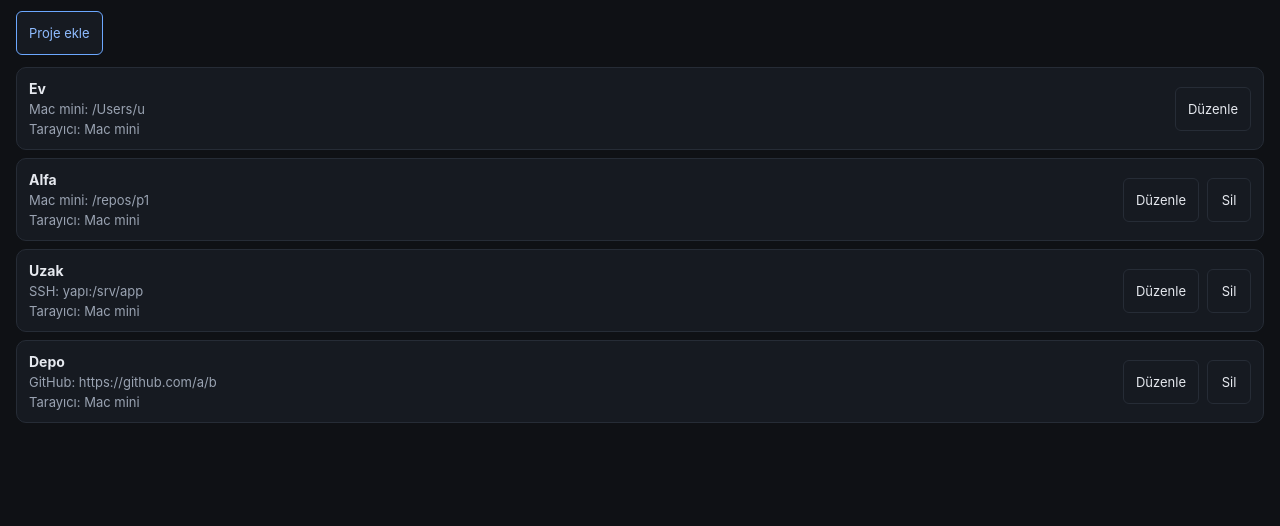
Test: Projeler: konum düzenleme › validates like create: a relative folder is refused before anything is sent
Click the button with aria-label "Düzenle: Alfa" at (1161, 200), box top-left (1123, 178), bottom-right (1199, 222)
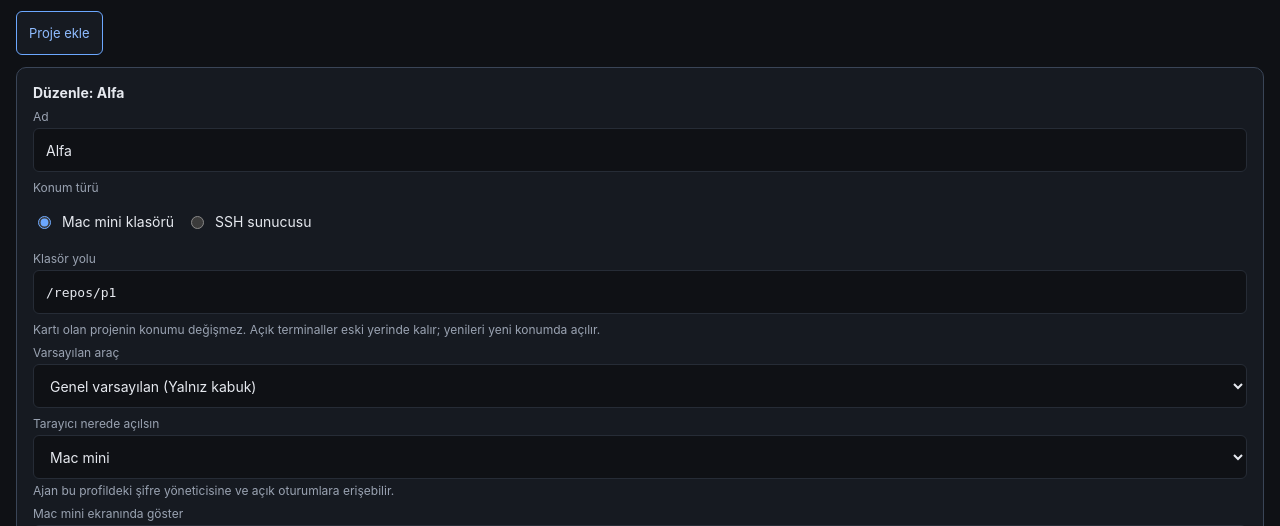
Replace the text in the field labelled "Klasör yolu" with "göreli/yol" at (640, 292), box top-left (33, 270), bottom-right (1247, 314)
(page scrolled)
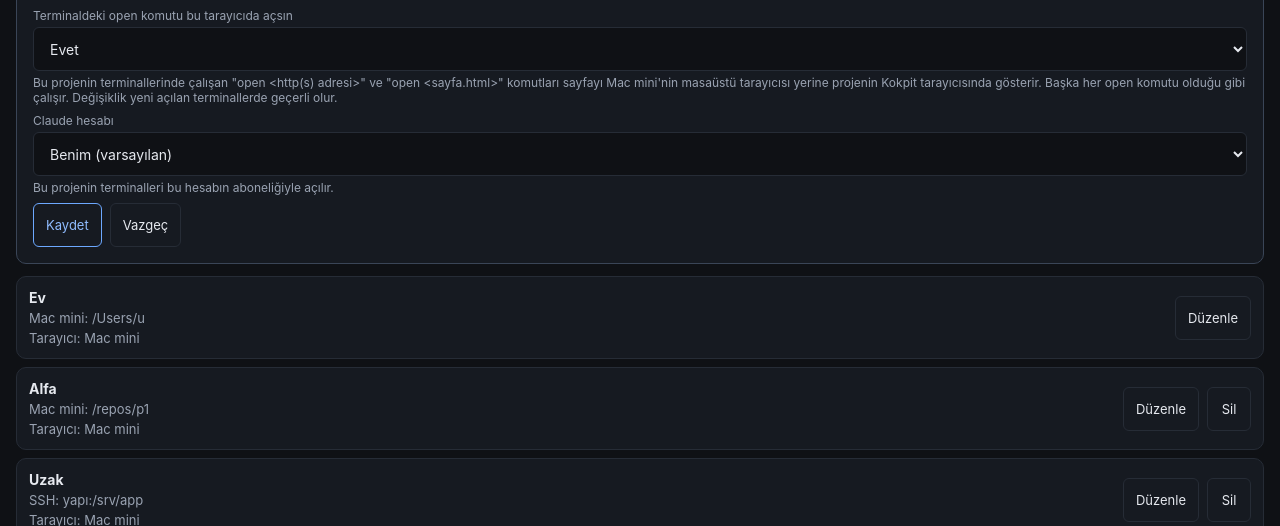
Click the button "Kaydet" at (67, 225), box top-left (33, 203), bottom-right (102, 247)
(page scrolled)
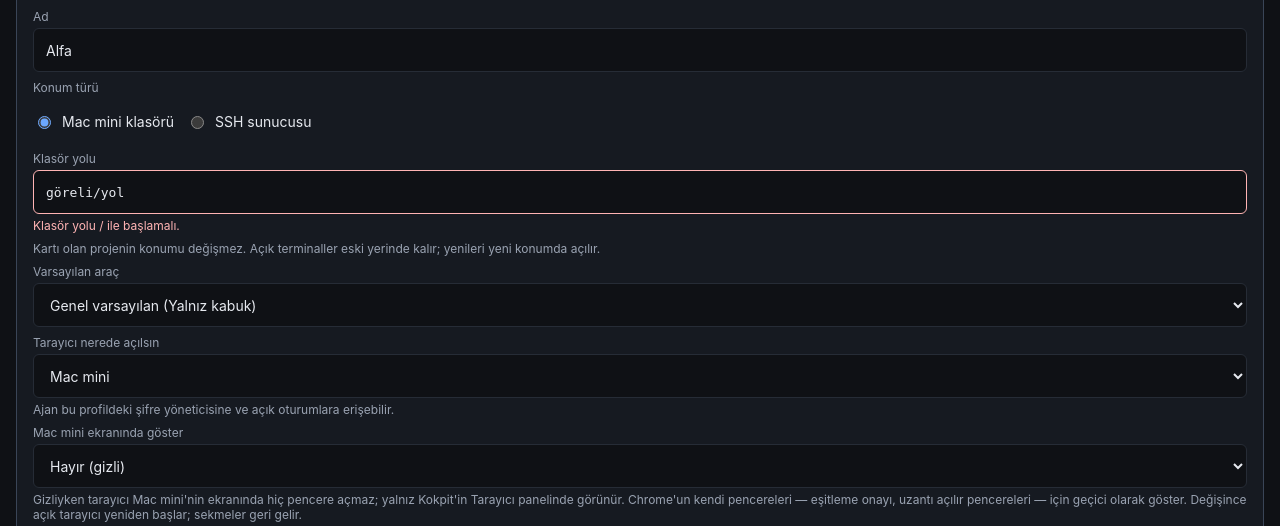
Result: the text "Klasör yolu / ile başlamalı." is shown at top-left (33, 218), bottom-right (180, 233)
